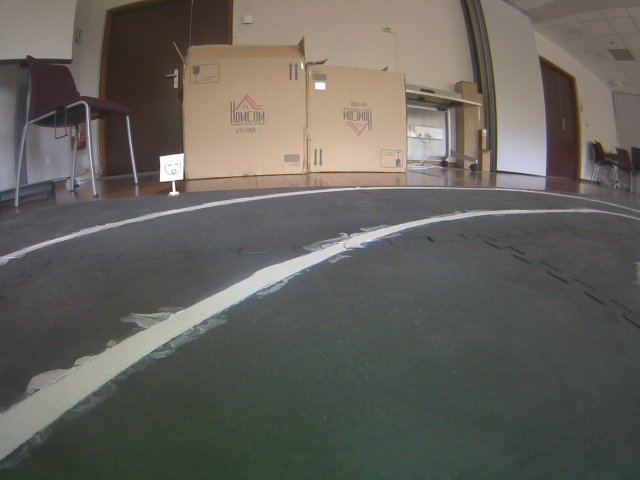Smiley: (155, 153, 186, 183)
